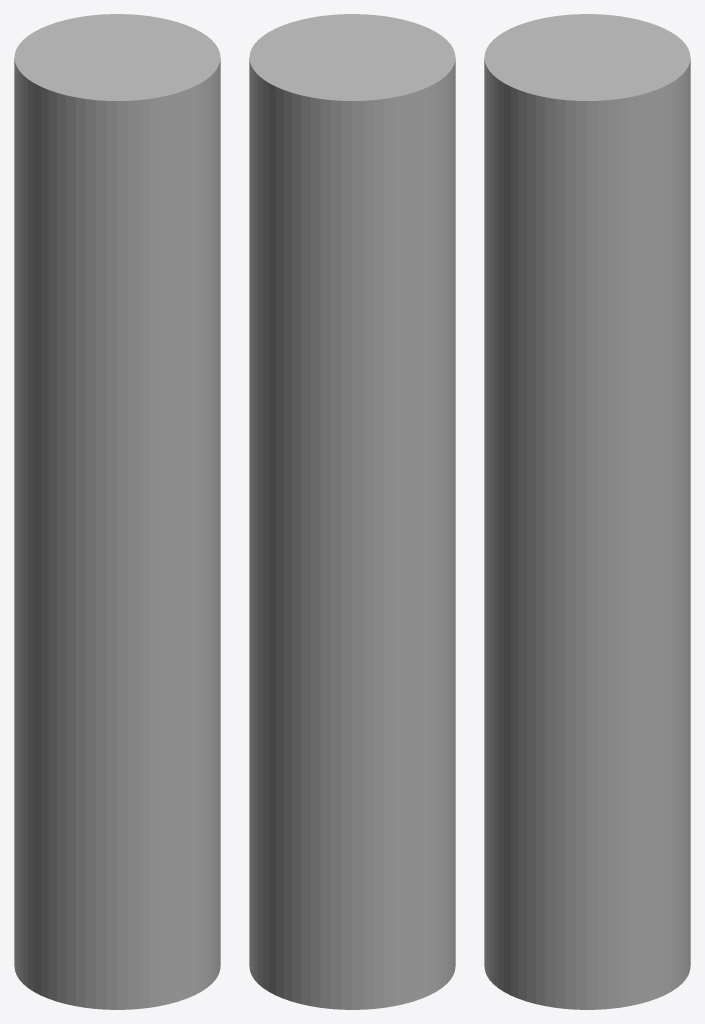
The model's file is weight.obj.
3 renders of one model, left to right at view 1: azimuth 30°, elevation 25°; view 2: azimuth 150°, elevation 25°; view 3: azimuth 270°, elevation 25°, orthographic.
Visible parts, largest first — view 1: Cylinder; view 2: Cylinder; view 3: Cylinder.
Boxes of the visible parts, x1=… form: Cylinder: x1=14, y1=14, x2=220, y2=1009; Cylinder: x1=249, y1=14, x2=455, y2=1009; Cylinder: x1=484, y1=14, x2=690, y2=1009.
Bounding box in the file's own units: 0.3965 × 1.93 × 0.3965.
1 material, 1 textured.
